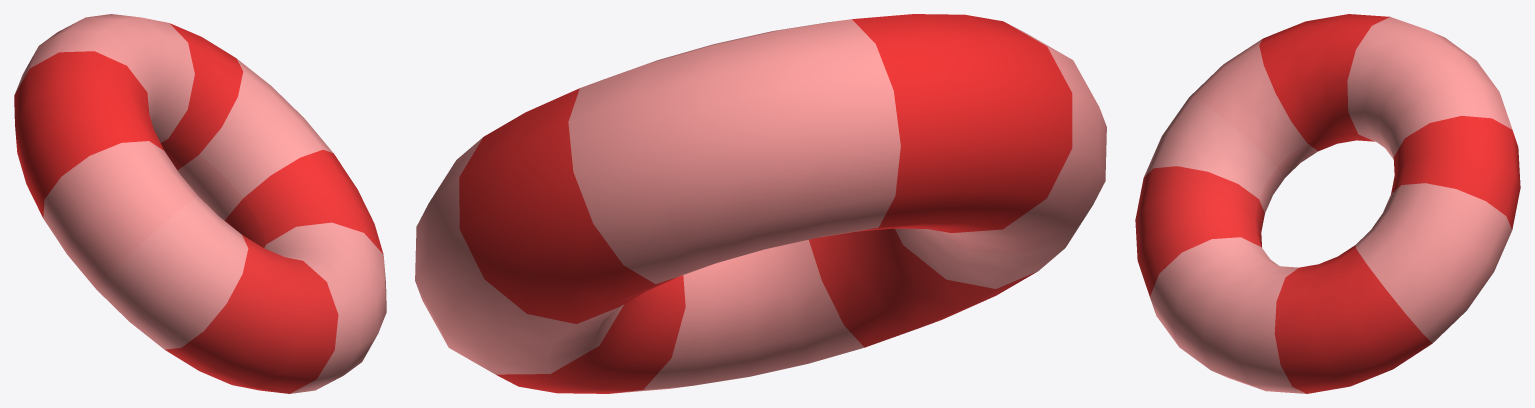
Rendered from BeachCircle.fbx.
3 renders of one model, left to right at view 1: azimuth 30°, elevation 25°; view 2: azimuth 150°, elevation 25°; view 3: azimuth 270°, elevation 25°, orthographic. The views are drawn at different scales.
Parts seen in each view (by area): view 1: BeachCircle; view 2: BeachCircle; view 3: BeachCircle.
Boxes of the visible parts, <box> form: BeachCircle: <box>14,14,386,393</box>; BeachCircle: <box>415,14,1106,393</box>; BeachCircle: <box>1135,14,1520,393</box>.
Bounding box in the file's own units: 260 × 218 × 269.
